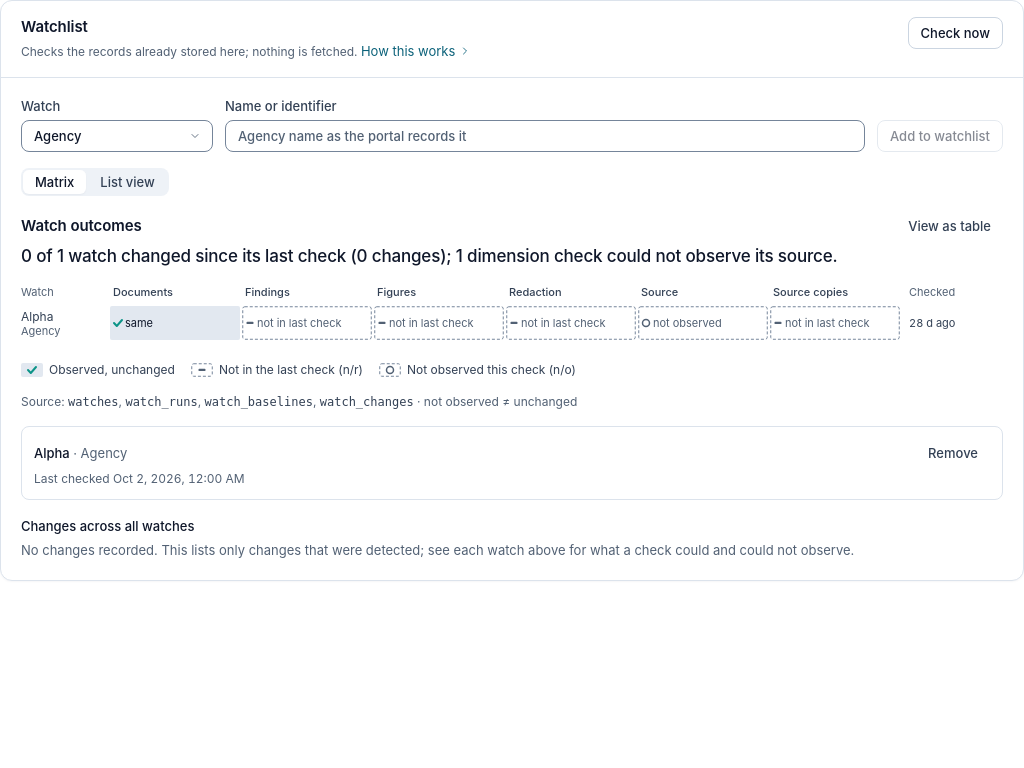
it: watchlist change detection › never words a dimension with no data as no change
Click the radio button labelled "List view": (128, 182) [88, 170, 167, 194]
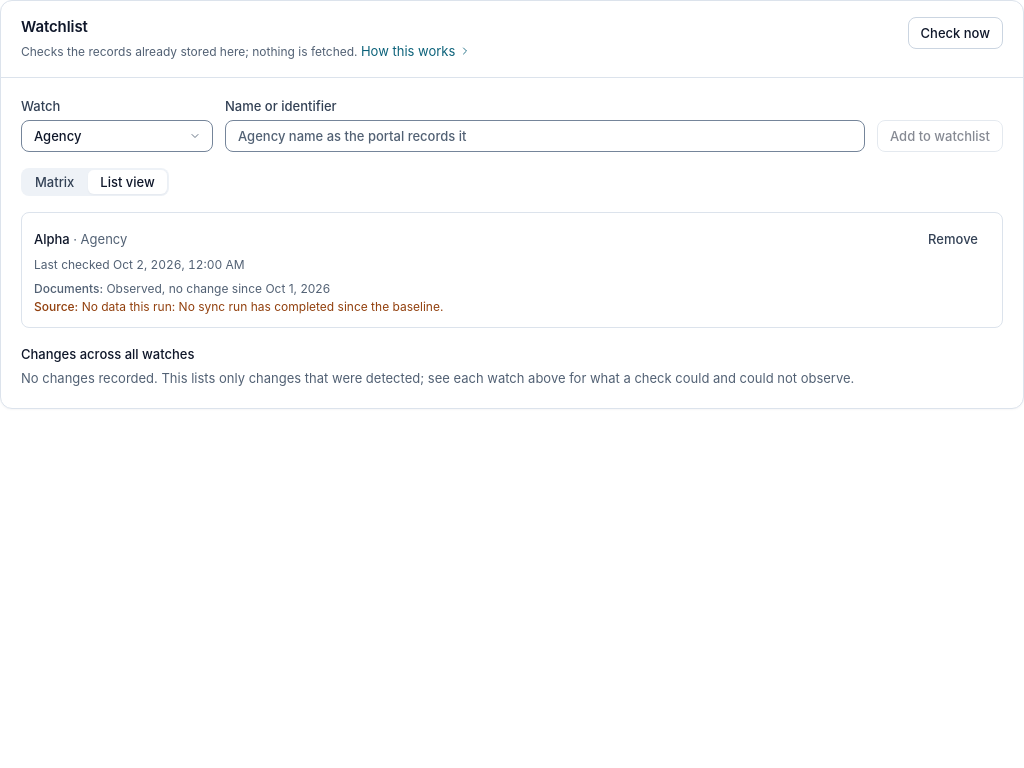
Check: the list item "No data this run: No sync run has completed since the baseline." is shown, box [82, 299, 443, 314]
